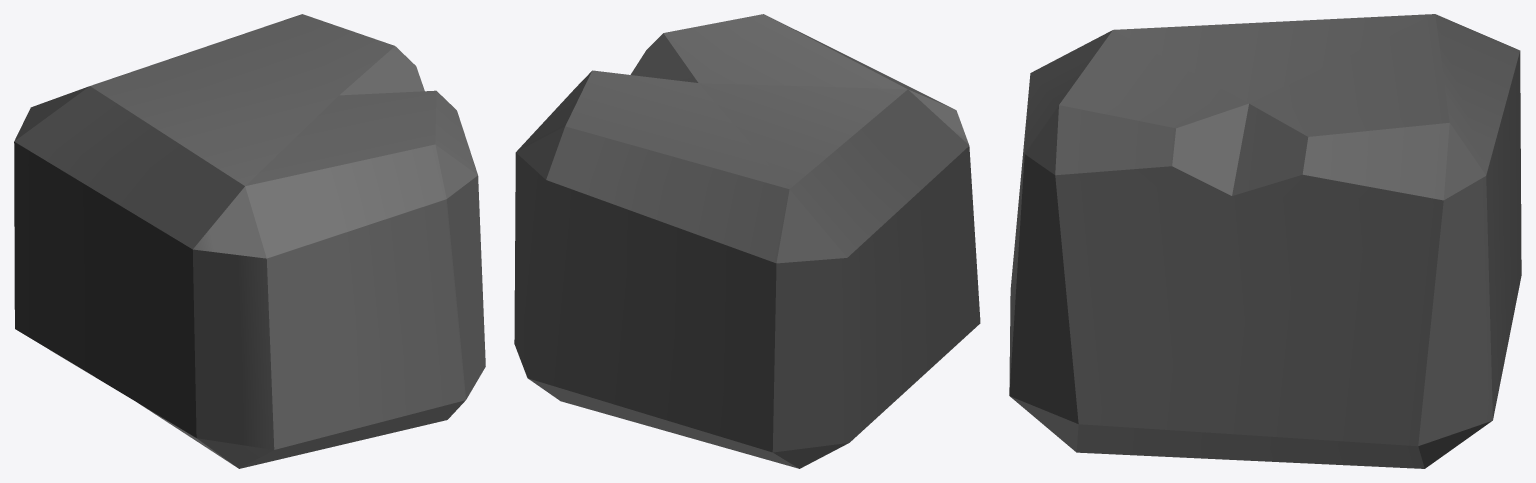
File: stone_small.gltf
3 renders of one model, left to right at view 1: azimuth 30°, elevation 25°; view 2: azimuth 150°, elevation 25°; view 3: azimuth 270°, elevation 25°, orthographic. The views are drawn at different scales.
Visible parts, largest first — view 1: Cube; view 2: Cube; view 3: Cube.
Boxes of the visible parts, bbox=[...] form: Cube: bbox=[14, 14, 485, 468]; Cube: bbox=[514, 14, 980, 468]; Cube: bbox=[1009, 14, 1521, 468].
Bounding box in the file's own units: 0.2817 × 0.2234 × 0.3031.
1 material, 1 textured.
